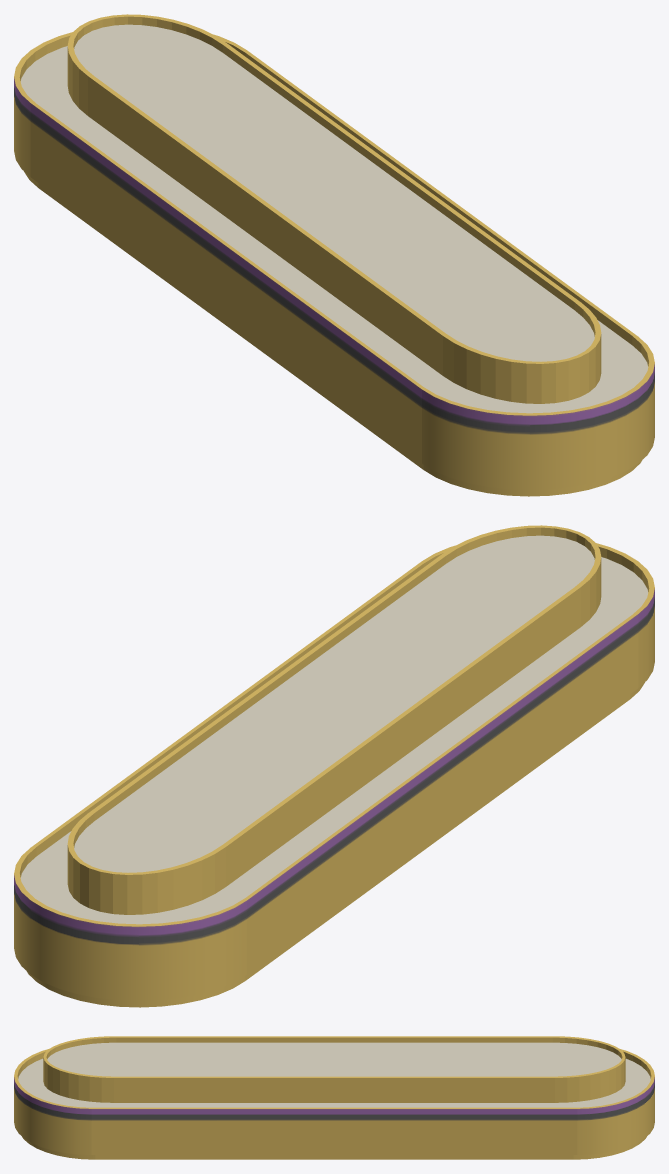
Rendered from Shelf2.fbx.
3 renders of one model, top to bottom at view 1: azimuth 30°, elevation 25°; view 2: azimuth 150°, elevation 25°; view 3: azimuth 270°, elevation 25°, orthographic. The views are drawn at different scales.
Parts seen in each view (by area): view 1: polySurface147; view 2: polySurface147; view 3: polySurface147.
Boxes of the visible parts, <box> form: polySurface147: <box>14,14,654,496</box>; polySurface147: <box>14,525,654,1007</box>; polySurface147: <box>14,1036,654,1159</box>.
Bounding box in the file's own units: 82.86 × 41.99 × 342.
1 material, 1 textured.
